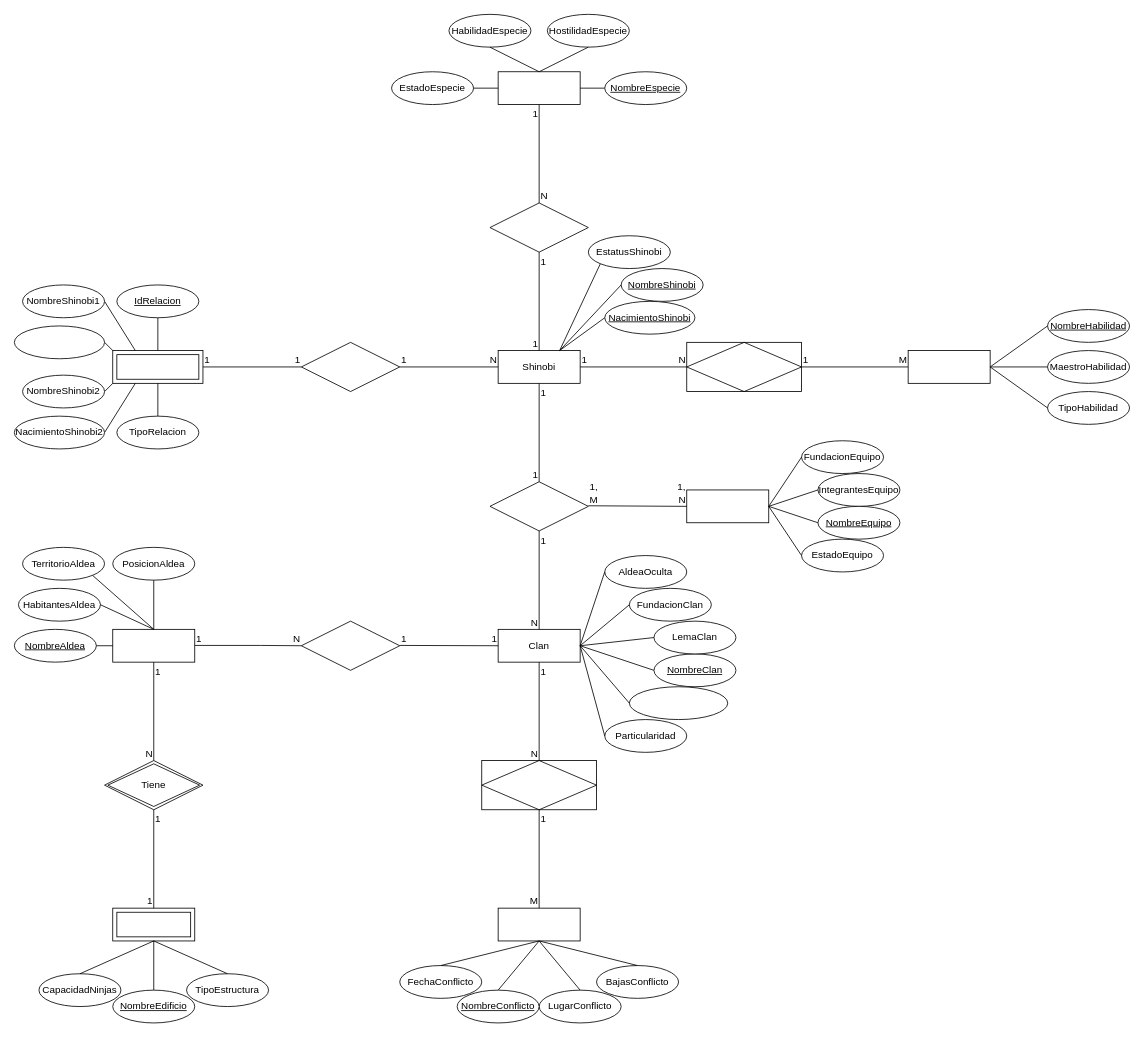
Some shapes in this 1144 by 1037 pixel diagram are drawn without their labels. The box of each missing label's shape, as (x1, y1, x2, y2) in pixels:
Aldea: (112, 629, 195, 662)
ClanConflicto: (481, 760, 597, 810)
Conflicto: (497, 907, 580, 941)
DescripcionEmblema: (629, 686, 728, 720)
Edificio: (112, 907, 195, 941)
Equipo: (686, 489, 769, 523)
Especie: (497, 71, 580, 105)
Habilidad: (907, 350, 990, 383)
NacimientoShinobi1: (14, 325, 105, 359)
Pertenece a: (489, 481, 588, 531)
Posee: (301, 342, 400, 392)
Puede ser: (489, 202, 588, 252)
RelacionFamiliar: (112, 350, 203, 383)
Reside en: (301, 620, 400, 670)
ShinobiHabilidad: (686, 342, 802, 392)
